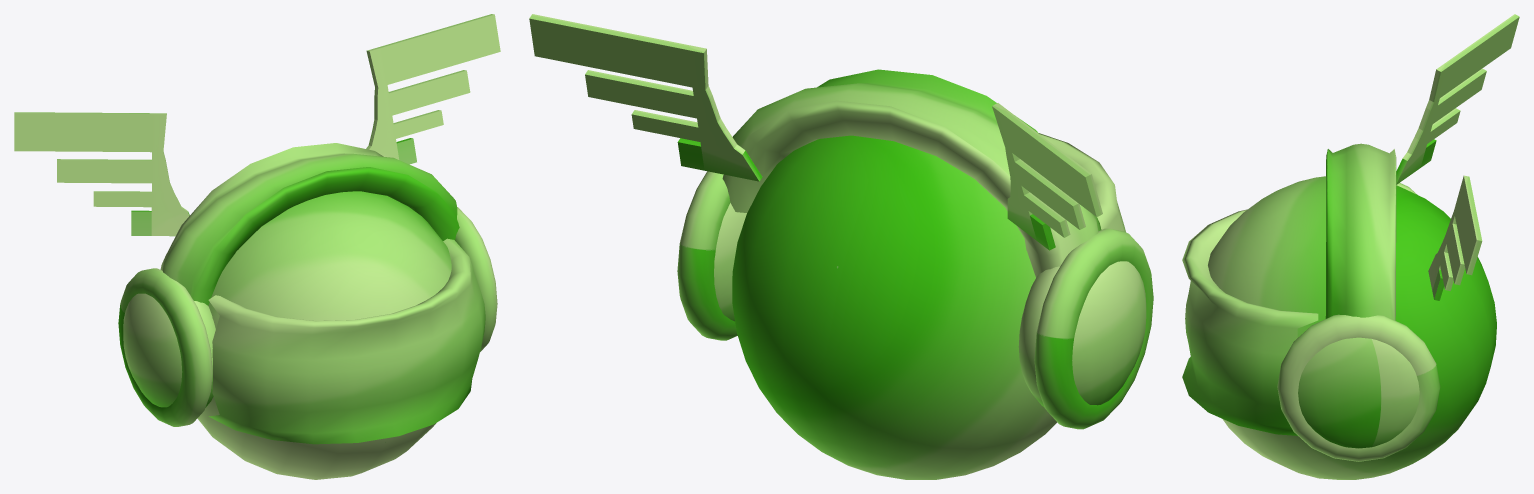
Rendered from airman_green.fbx.
3 views of the same model, side by side, from view 1: azimuth 30°, elevation 25°; view 2: azimuth 150°, elevation 25°; view 3: azimuth 270°, elevation 25° (orthographic). The views are drawn at different scales.
Parts seen in each view (by area): view 1: polySurface1; view 2: polySurface1; view 3: polySurface1.
Part boxes in pixels (box(x1,y1,x2,y2)): polySurface1: box(14, 14, 500, 479); polySurface1: box(529, 14, 1153, 479); polySurface1: box(1182, 14, 1519, 479).
Size of the model in its own units: 11.23 by 7.91 by 7.01.
1 material, 1 textured.
